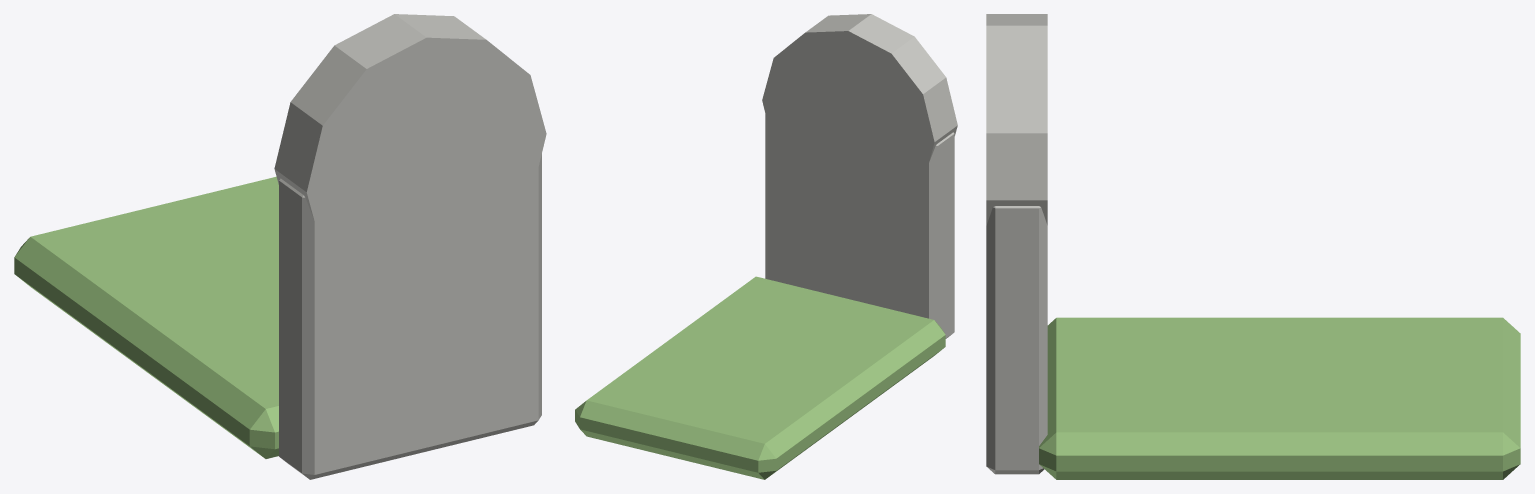
The model's file is Gravestone_1.glb.
The picture shows the model from 3 angles, left to right: view 1: azimuth 30°, elevation 25°; view 2: azimuth 150°, elevation 25°; view 3: azimuth 270°, elevation 25°; orthographic projection. The views are drawn at different scales.
Parts seen in each view (by area): view 1: Gravestone_1; view 2: Gravestone_1; view 3: Gravestone_1.
Part boxes in pixels (x1,y1,x2,y2): Gravestone_1: (14,14,546,479); Gravestone_1: (575,14,957,479); Gravestone_1: (986,14,1520,479).
Bounding box in the file's own units: 0.7 × 1 × 1.22.
